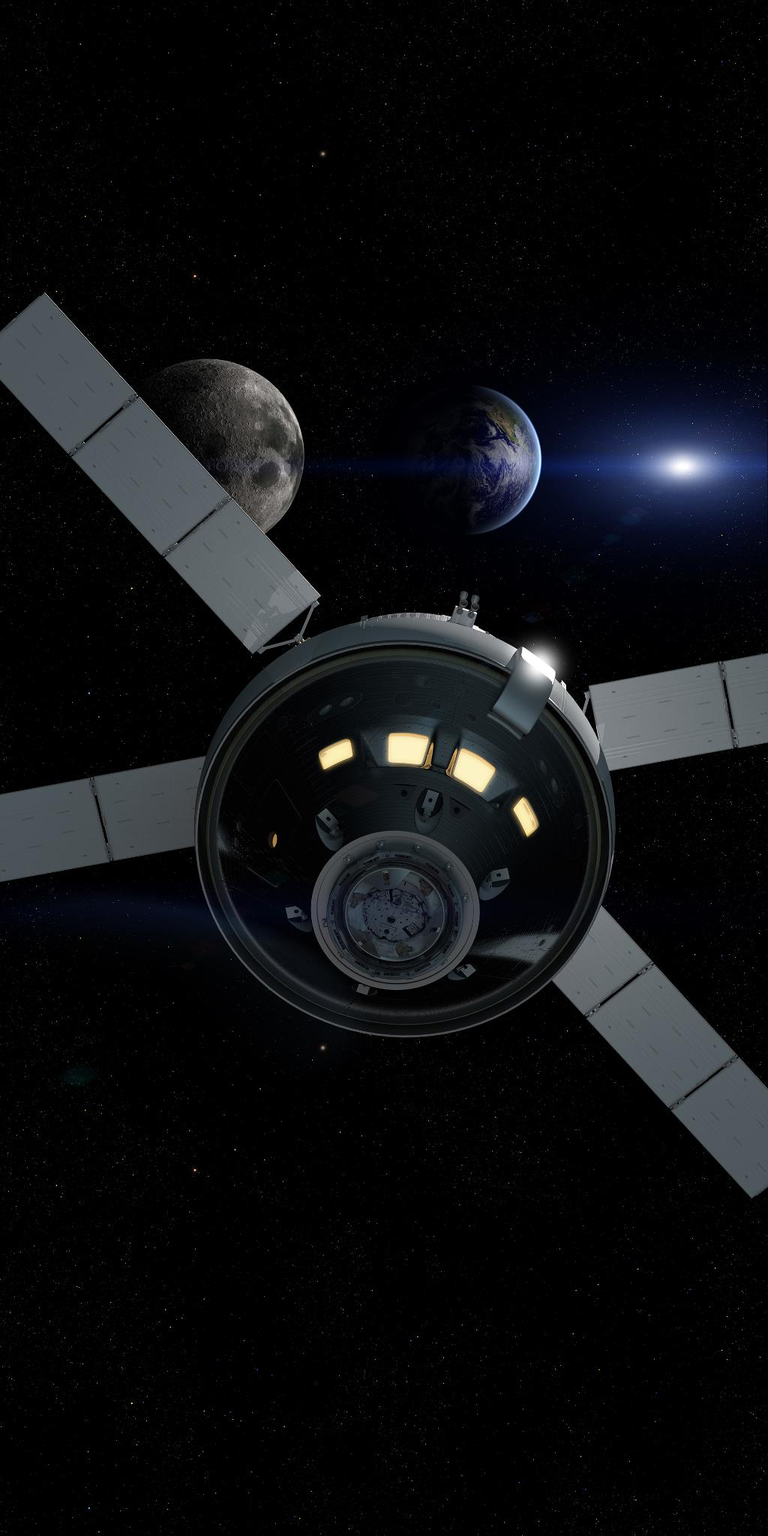body: (192, 609, 621, 1044)
solar: (0, 289, 324, 657), (548, 902, 768, 1204), (0, 751, 204, 890), (582, 646, 768, 778)
thruster: (458, 590, 469, 602), (470, 594, 481, 606), (470, 602, 480, 614), (459, 598, 468, 610)
